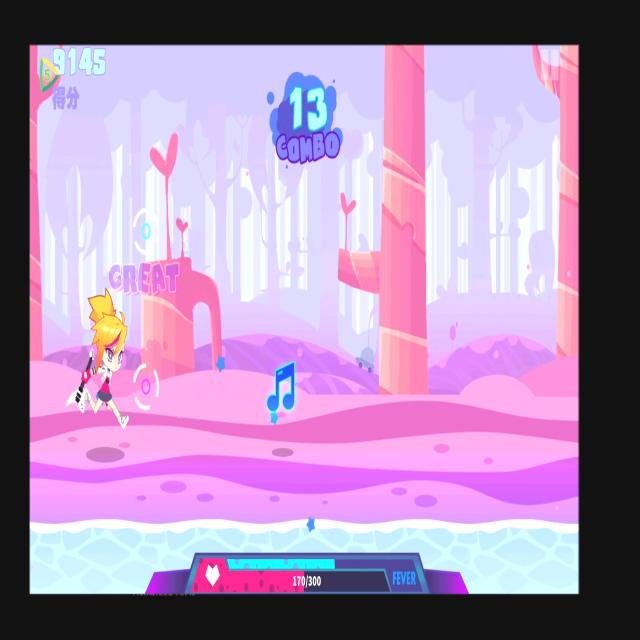incentive-blue Music note: (266, 356, 300, 418)
